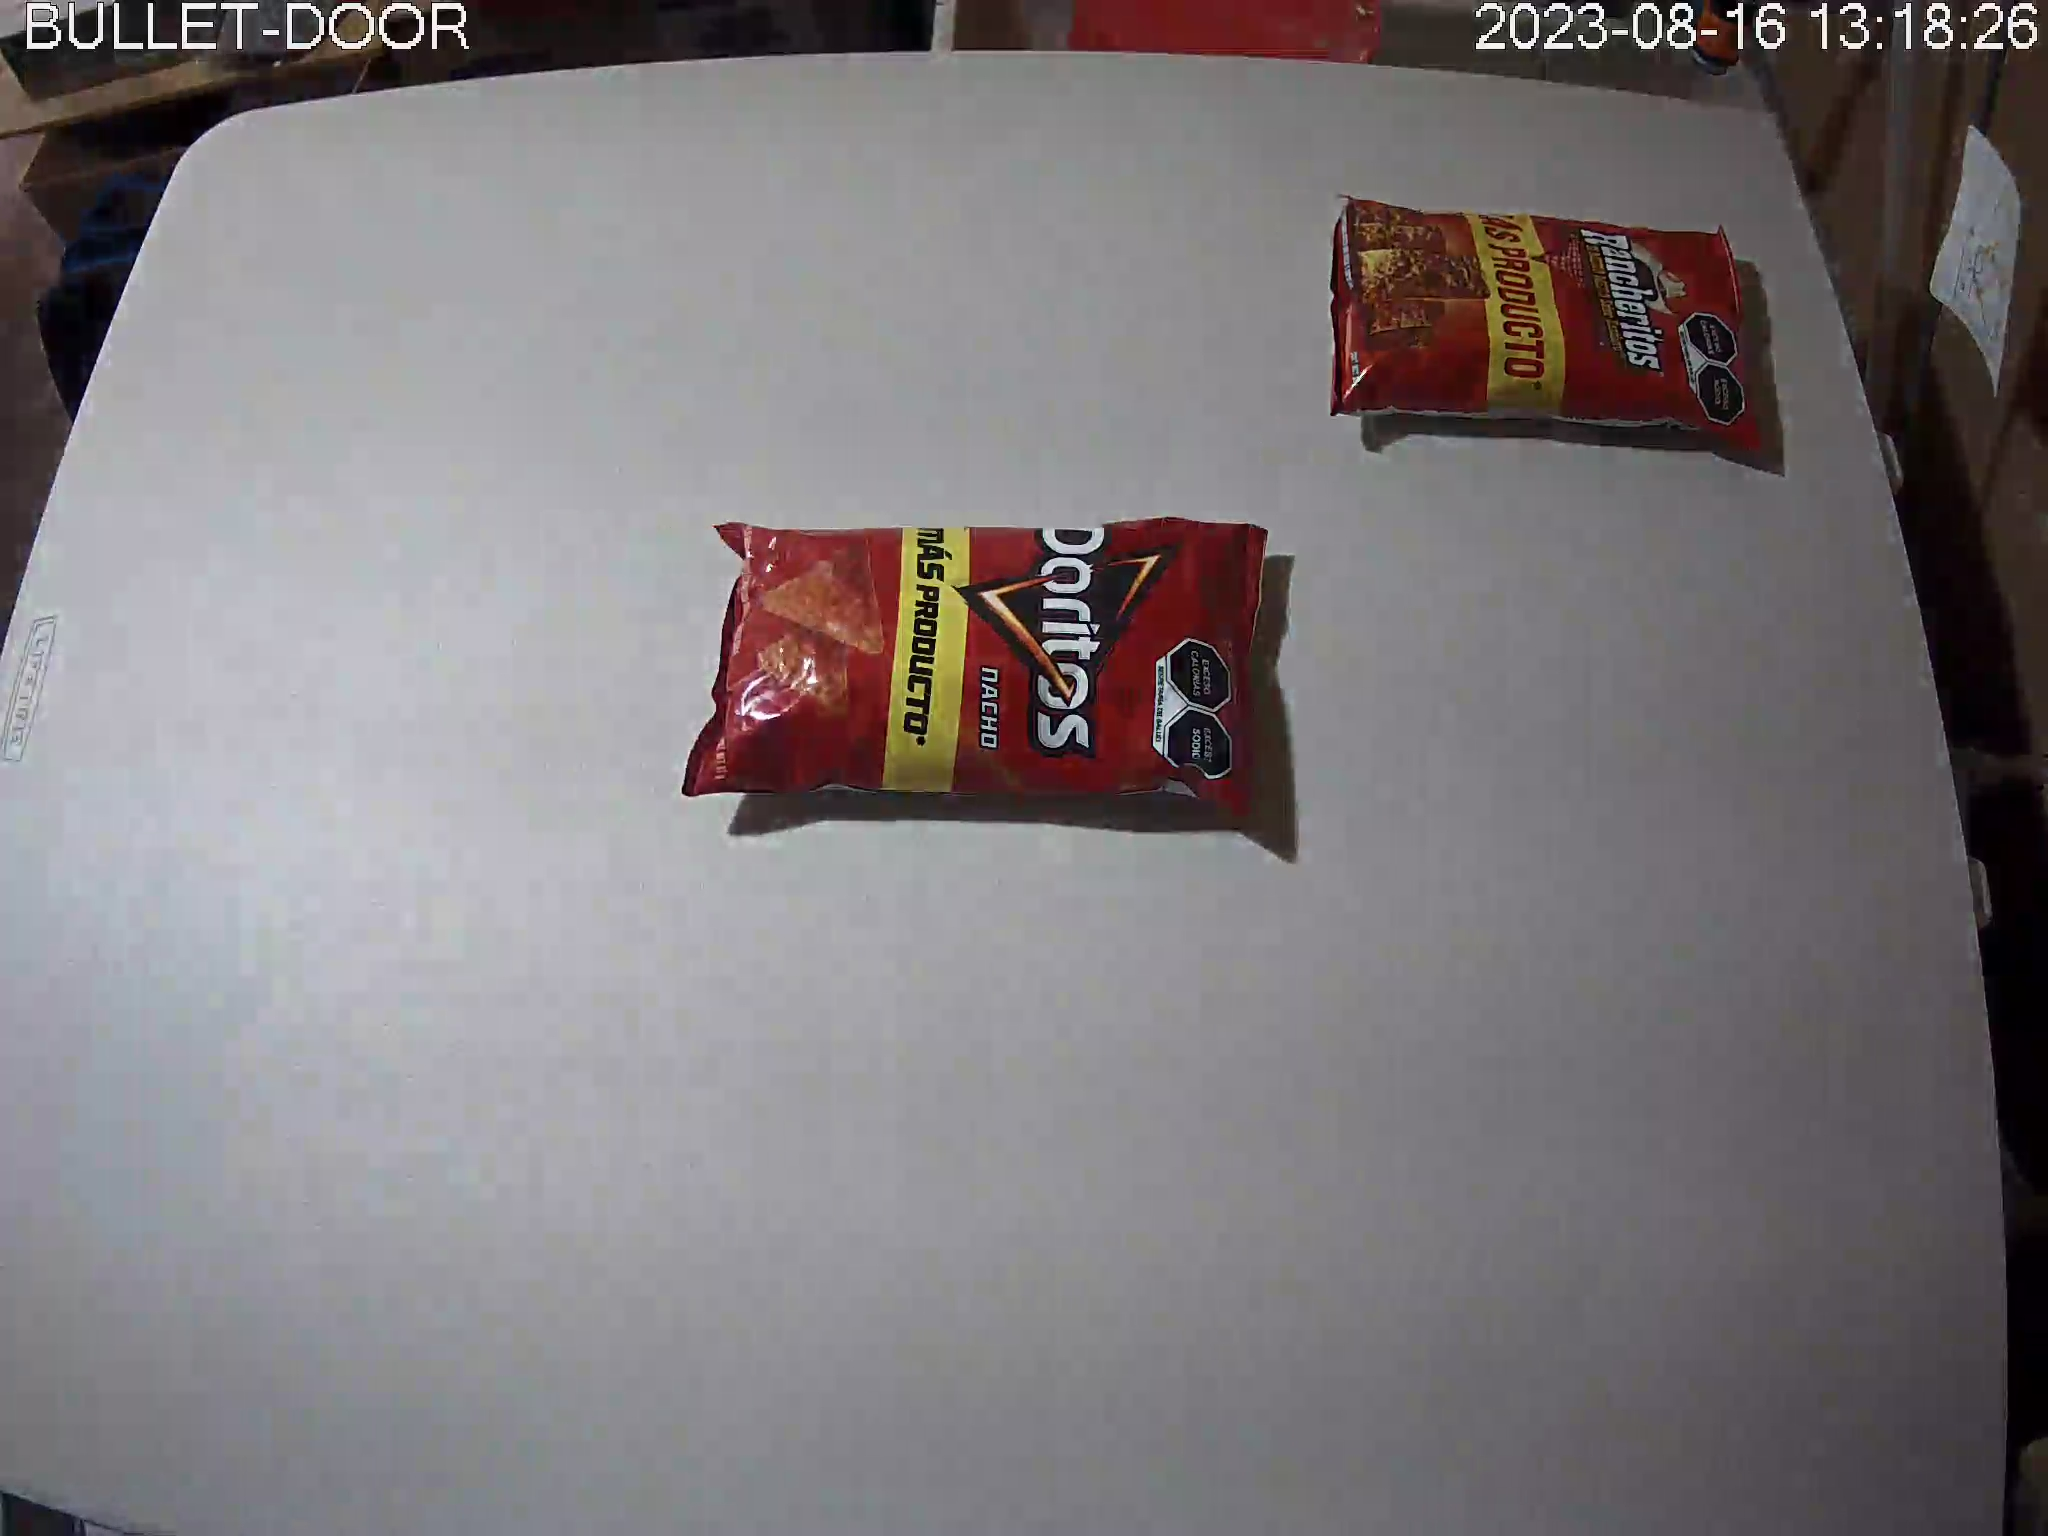DoritosN_61_F: (682, 516, 1269, 821)
Rancheritos_58_F: (1326, 195, 1771, 460)
